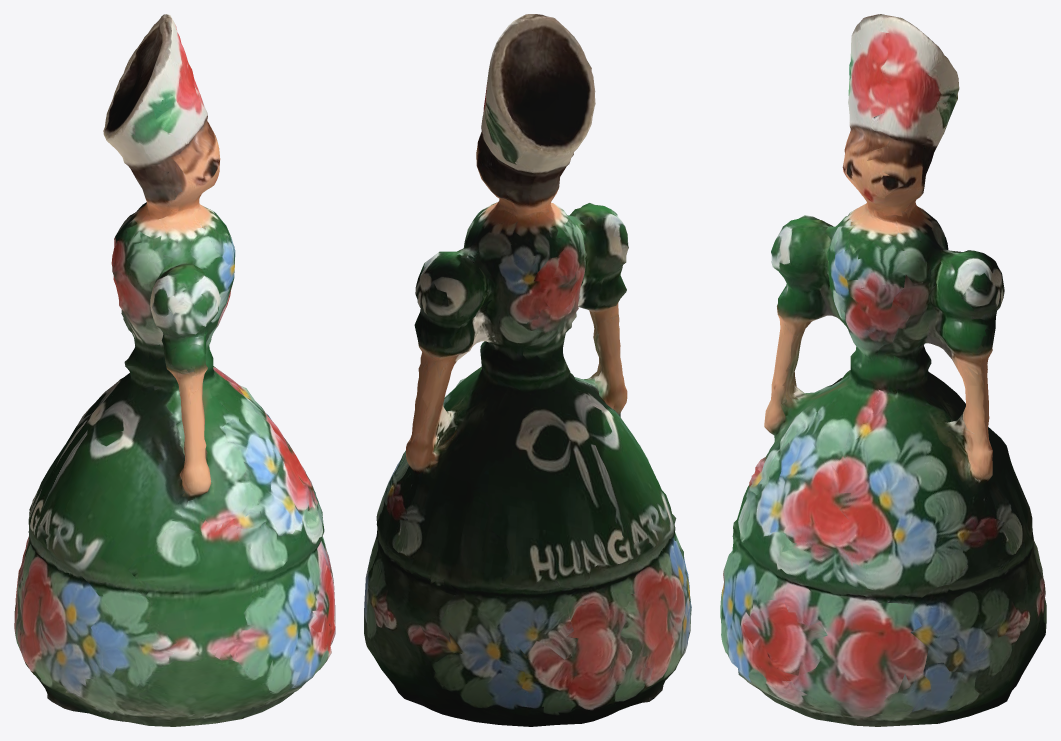
File: hungarian_souvenir_doll.gltf
The picture shows the model from 3 angles, left to right: view 1: azimuth 30°, elevation 25°; view 2: azimuth 150°, elevation 25°; view 3: azimuth 270°, elevation 25°; orthographic projection.
Parts seen in each view (by area): view 1: Object_2; view 2: Object_2; view 3: Object_2.
Part boxes in pixels (box(x1,y1,x2,y2)): Object_2: box(14, 14, 335, 726); Object_2: box(364, 14, 691, 726); Object_2: box(720, 14, 1046, 726).
Bounding box in the file's own units: 6.6 × 14.61 × 6.61.
Materials: 1 (1 with a texture image).
